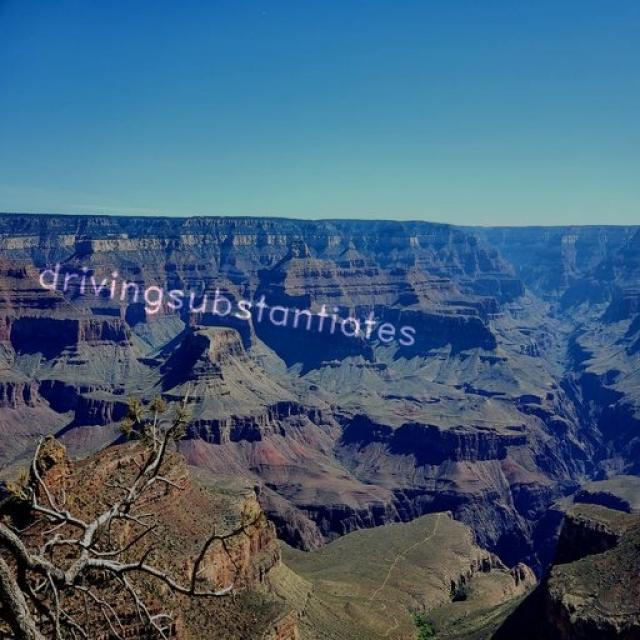watermark: (26, 258, 441, 352)
